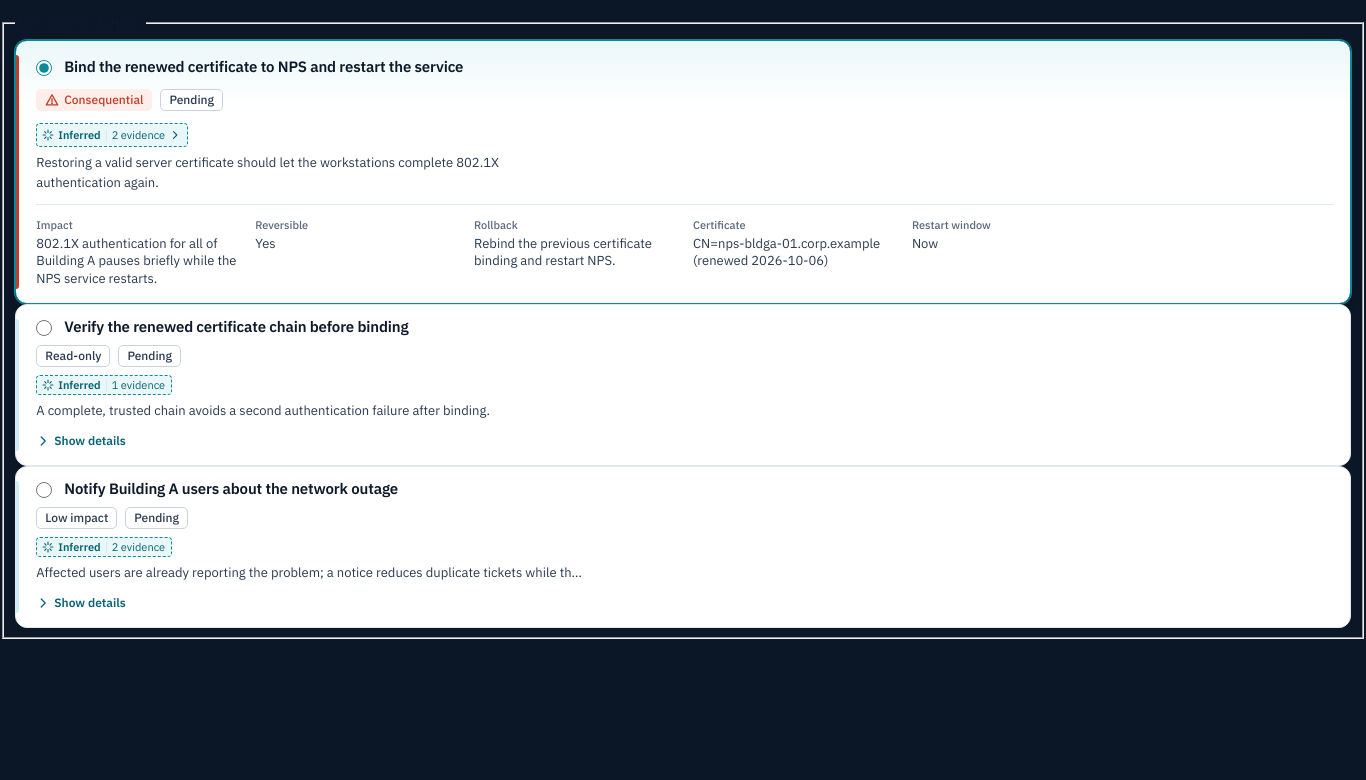
Scenario: RecommendationCard › is a radio labelled by its title; clicking selects
This screenshot has width=1366, height=780.
Expected: the radio button labelled "Bind the renewed certificate to NPS and restart the service" is checked, [36, 60, 52, 76]
Click the text "Verify the renewed certificate chain before binding": (236,327) [64, 317, 408, 336]
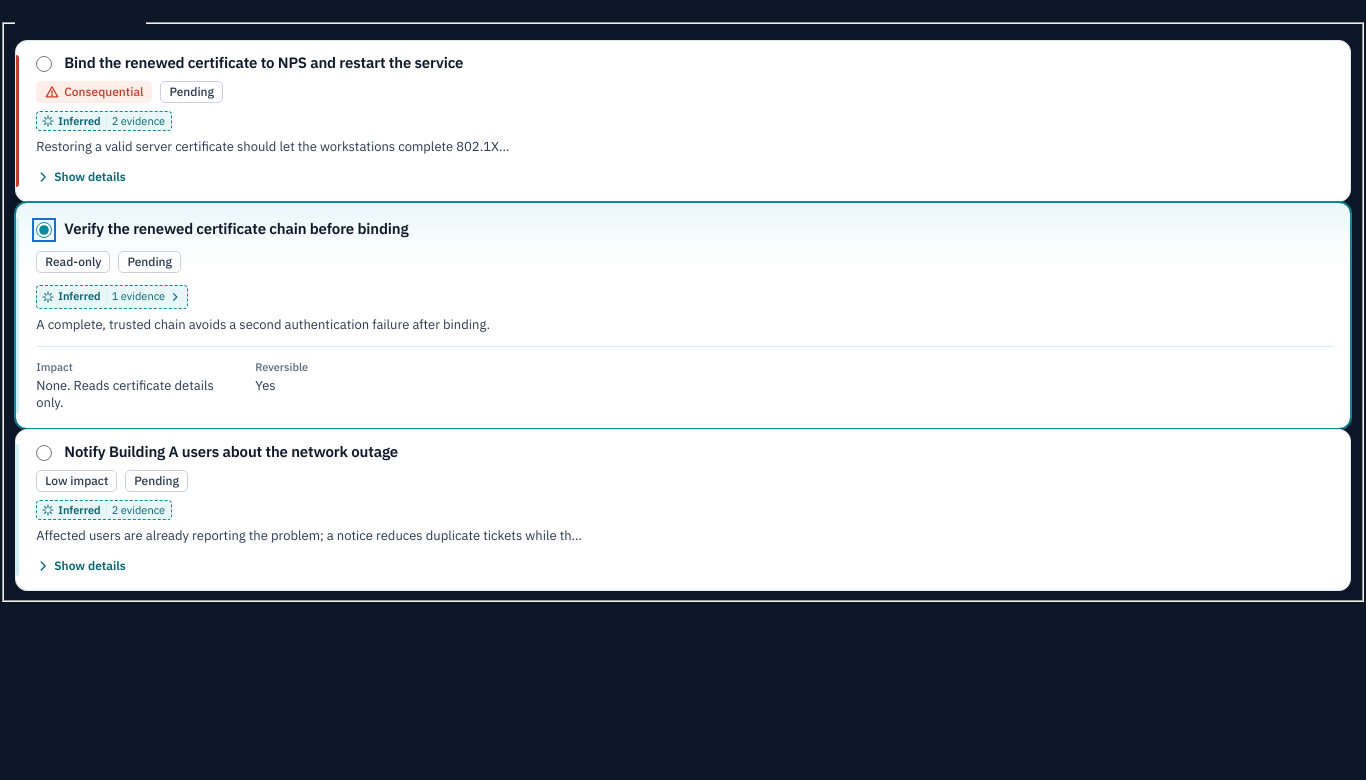
Result: the radio button labelled "Verify the renewed certificate chain before binding" is checked at [36, 222, 52, 238]
Result: the radio button labelled "Bind the renewed certificate to NPS and restart the service" is not checked at [36, 56, 52, 72]
